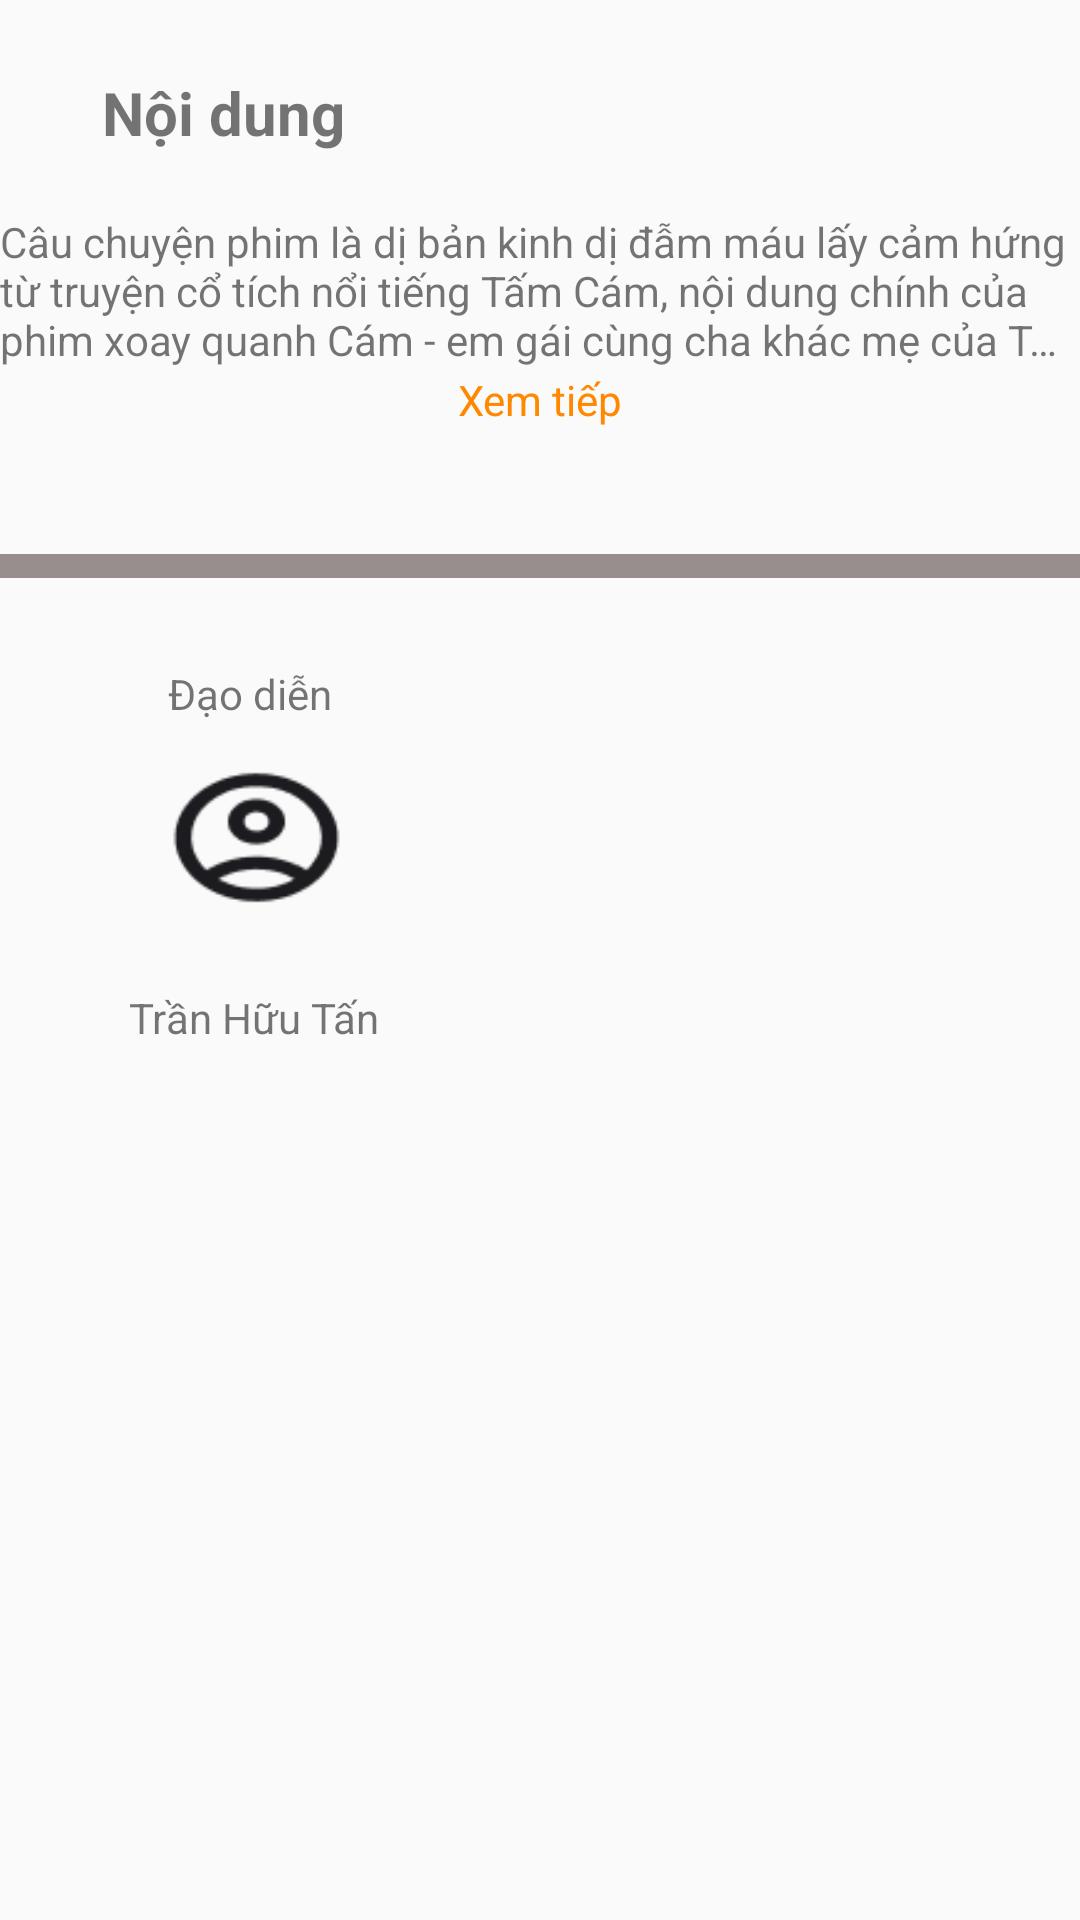

Named icons in this screenshot (1080px×1920px) and their bounding boxes, box(x1, y1, x2, y2):
user: box(173, 772, 340, 903)
